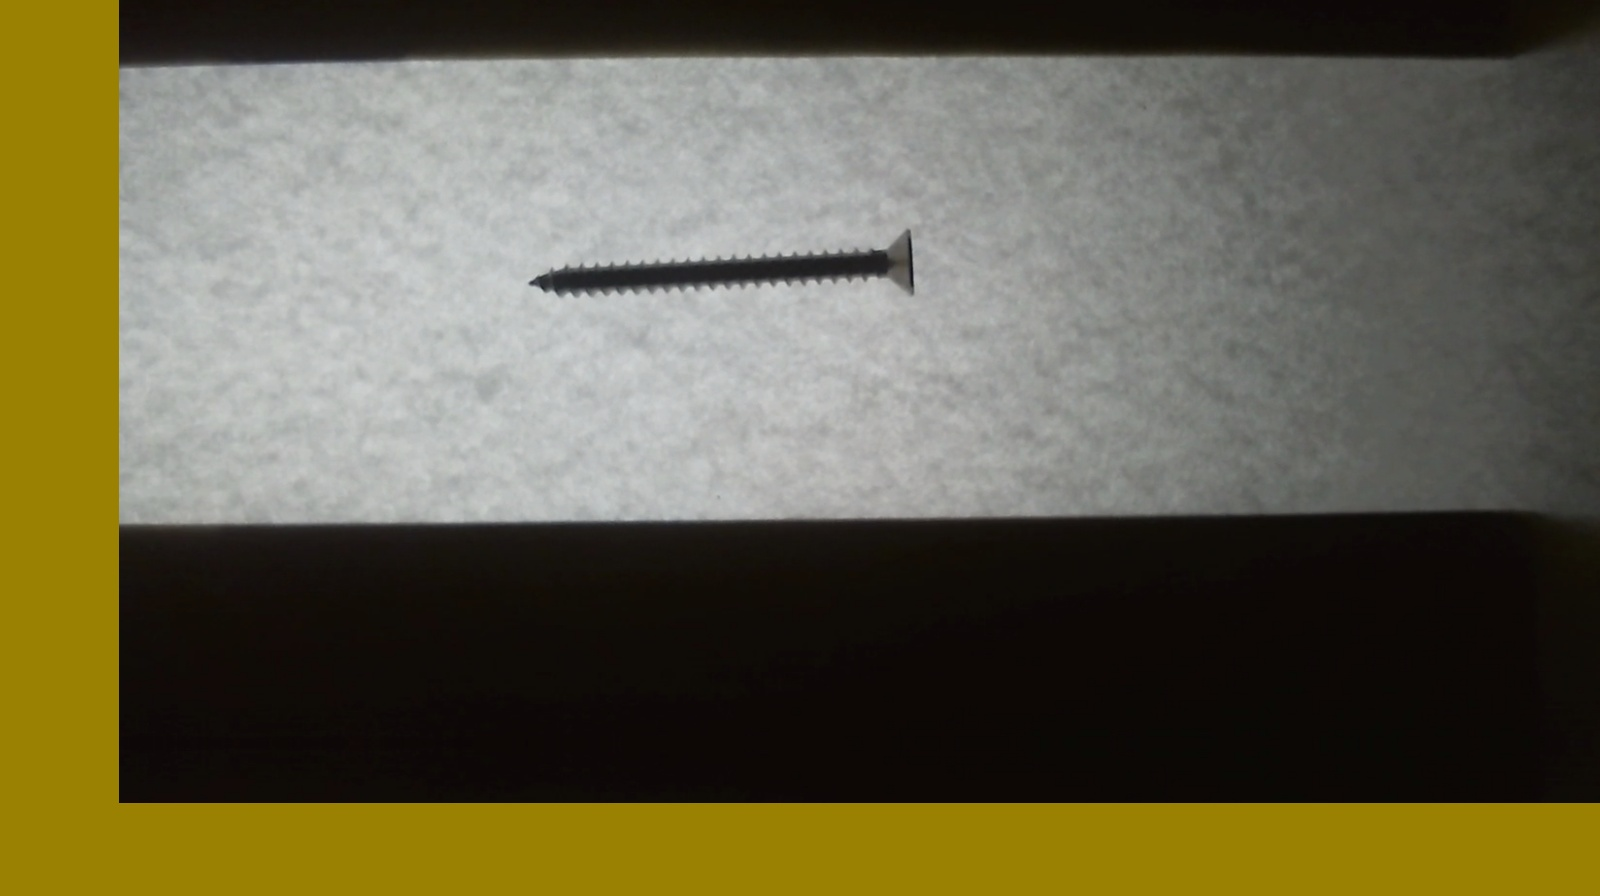S002: (518, 222, 927, 309)
